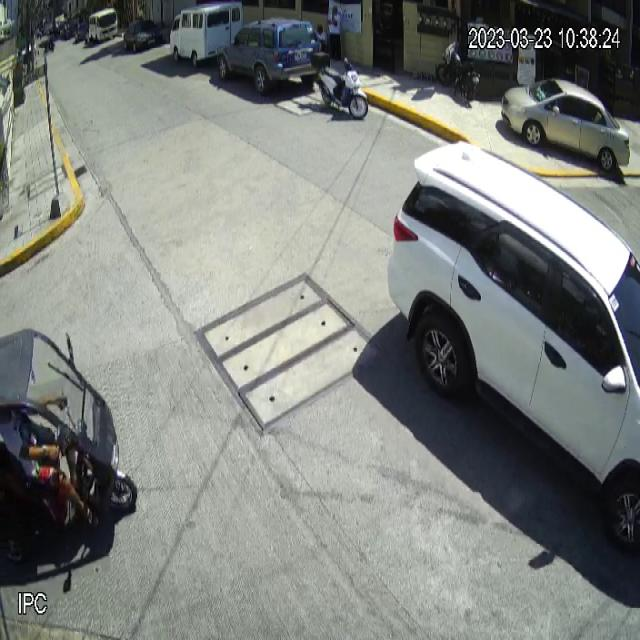Car: (386, 138, 640, 556), (500, 77, 631, 173), (217, 17, 323, 89)
Motorcycle: (310, 48, 368, 122)
Van: (170, 0, 243, 70)
